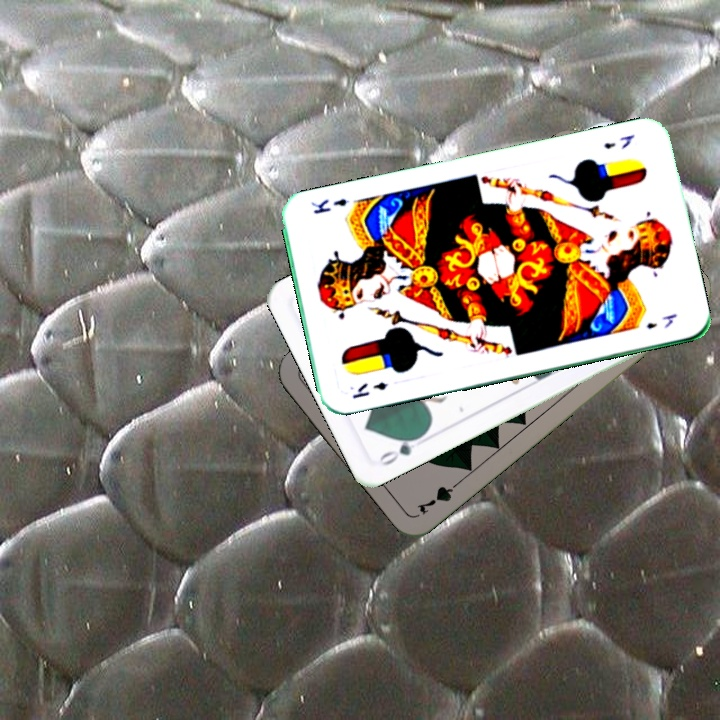EK: (348, 377, 390, 401), (599, 131, 638, 152)
G7: (412, 475, 465, 517)
GO: (373, 430, 427, 469)
